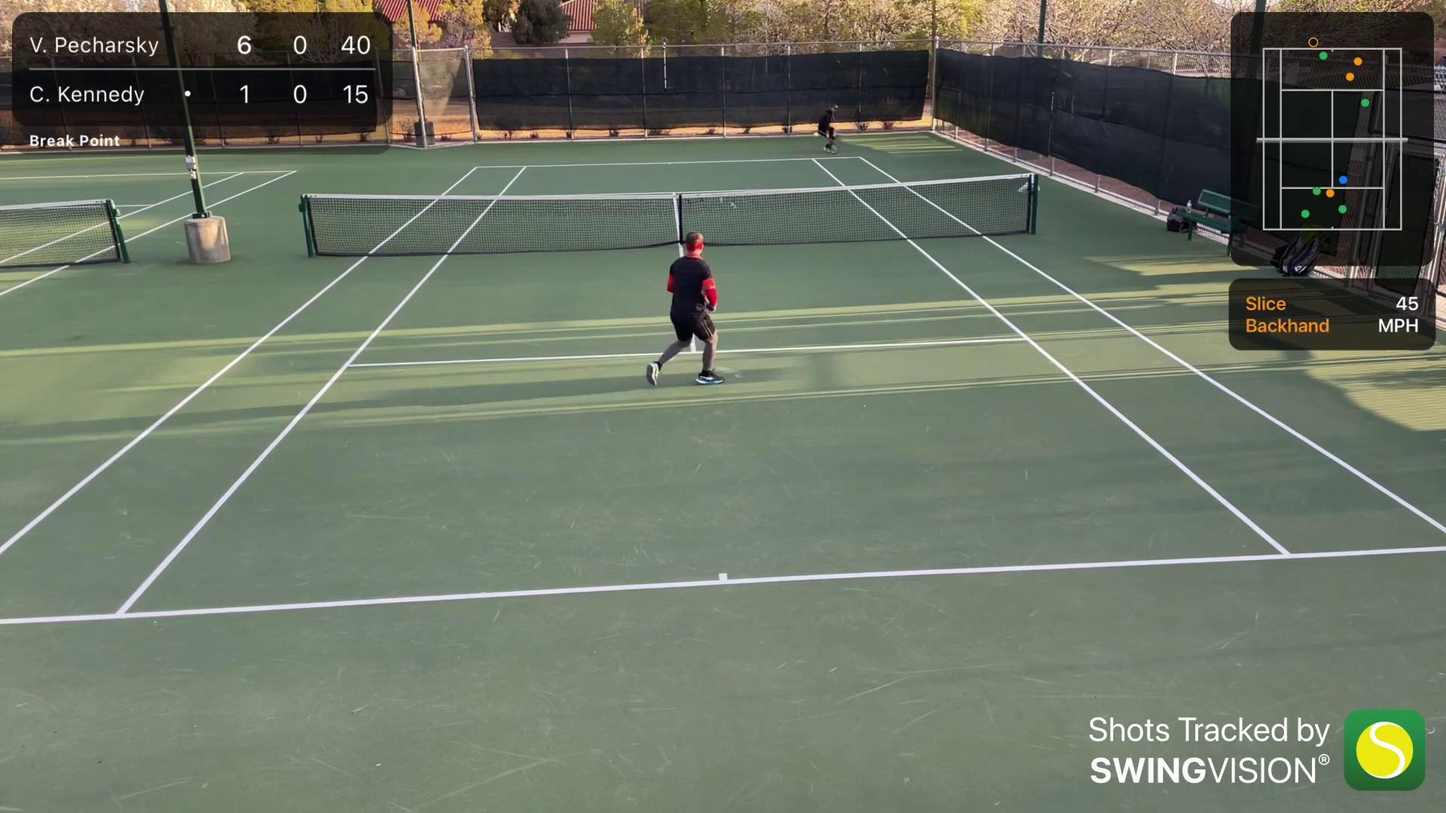ball: (812, 131, 819, 138)
